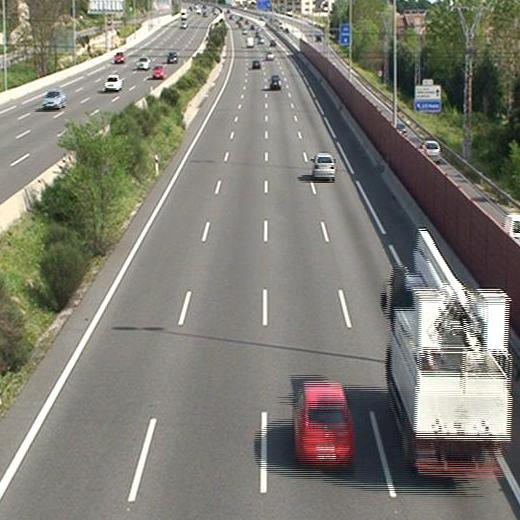car: (292, 382, 357, 466), (311, 154, 337, 179), (268, 75, 281, 91), (252, 60, 261, 69)
small-truck: (382, 231, 514, 482)
